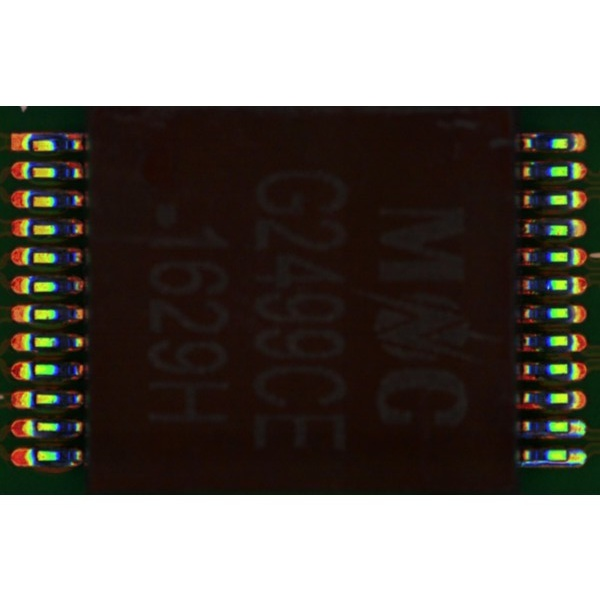Bad_podu: (563, 421, 575, 431), (563, 450, 573, 460)
Bad_qiaojiao: (519, 459, 567, 466)
